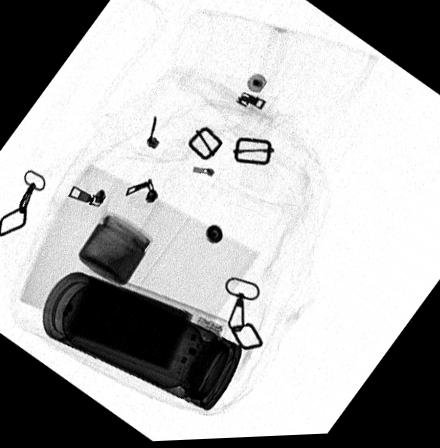Powerbank: (60, 267, 230, 391)
